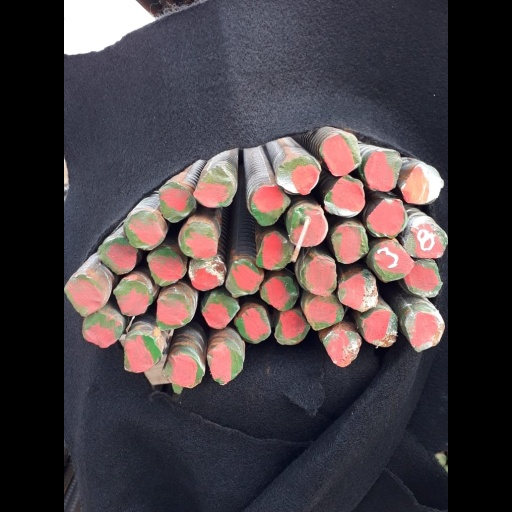dipstick: (450, 162, 509, 205), (282, 155, 343, 196), (340, 132, 397, 175), (344, 175, 402, 217), (80, 210, 139, 251), (172, 165, 228, 207), (247, 184, 303, 226), (411, 241, 468, 282), (366, 269, 419, 313), (454, 219, 512, 259), (2, 274, 54, 317), (454, 310, 508, 351), (400, 149, 451, 192), (300, 206, 353, 247), (215, 258, 266, 299), (356, 223, 407, 264), (24, 311, 79, 349), (152, 221, 205, 260), (191, 344, 240, 386), (404, 198, 458, 236), (125, 182, 176, 222), (256, 230, 308, 269), (45, 237, 98, 275), (184, 290, 234, 330), (109, 249, 164, 285), (78, 334, 130, 372), (164, 253, 216, 291), (65, 279, 118, 316), (321, 294, 374, 331), (455, 258, 504, 298), (121, 292, 171, 331), (346, 330, 397, 368), (134, 353, 187, 389), (228, 305, 276, 344), (316, 256, 364, 295), (262, 276, 313, 311), (398, 310, 444, 348), (280, 311, 328, 346)
